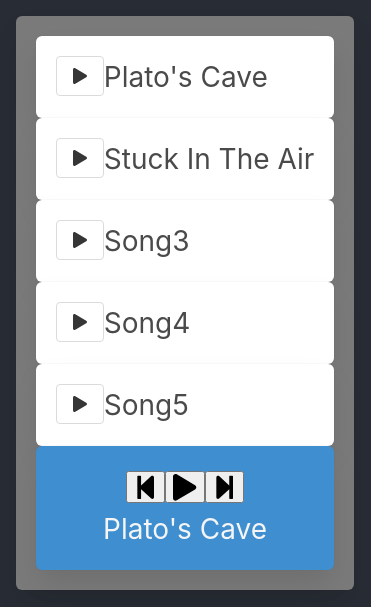
Scenario: The musicPlayer app › plays song when song button paused and clicked
This screenshot has width=371, height=607.
Click the button without text next to "Stuck In The Air". click: (80, 158)
box: left=56, top=138, right=104, bottom=178
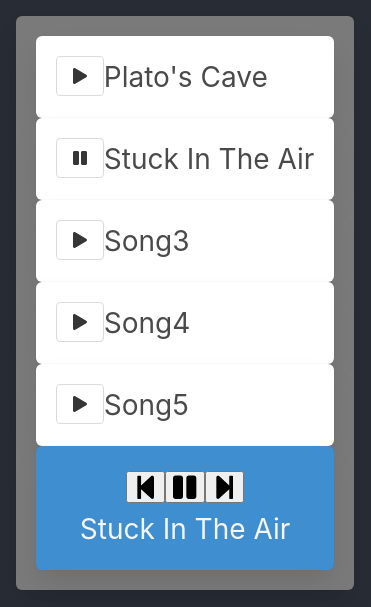
Expected: the 7th picture is shown, left=173, top=474, right=197, bottom=500
Expected: the heading with id "MusicLabel" reads "Stuck In The Air", left=80, top=512, right=290, bottom=546
